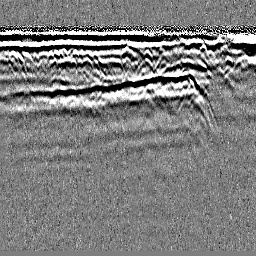cavity: (119, 45, 136, 59)
